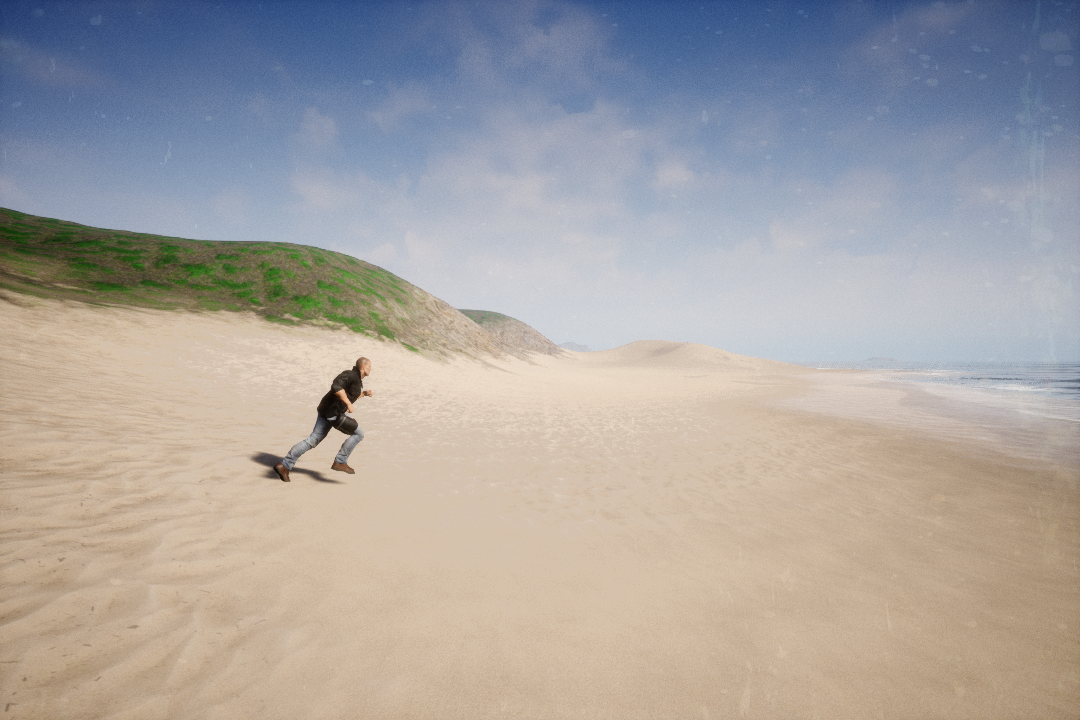person: (265, 353, 381, 482)
